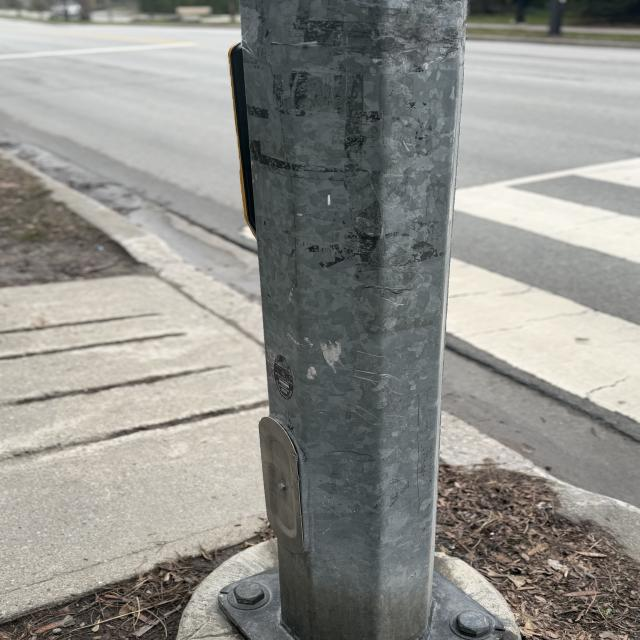Electrical Pole: (214, 4, 509, 639)
